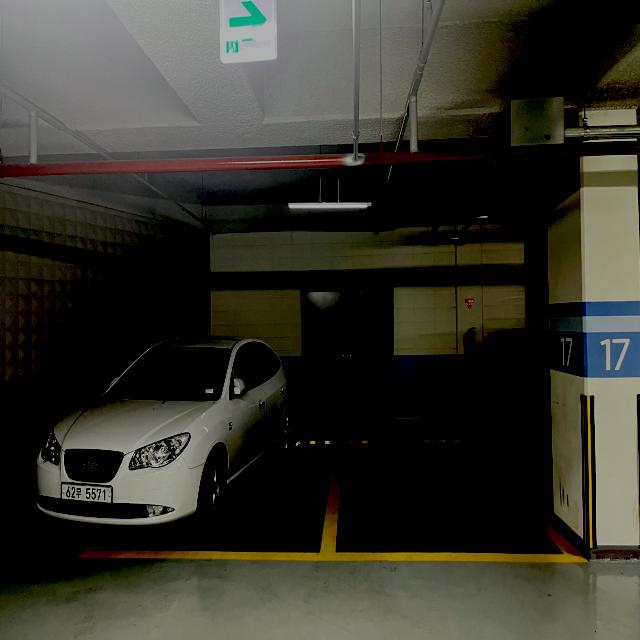empty: (320, 426, 590, 565)
occupied: (32, 320, 328, 570)
